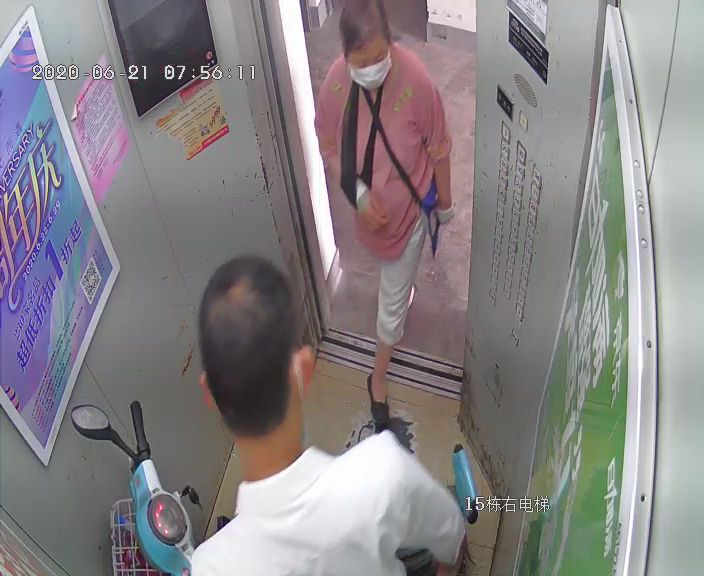Electric-bicycle: (74, 398, 202, 576)
